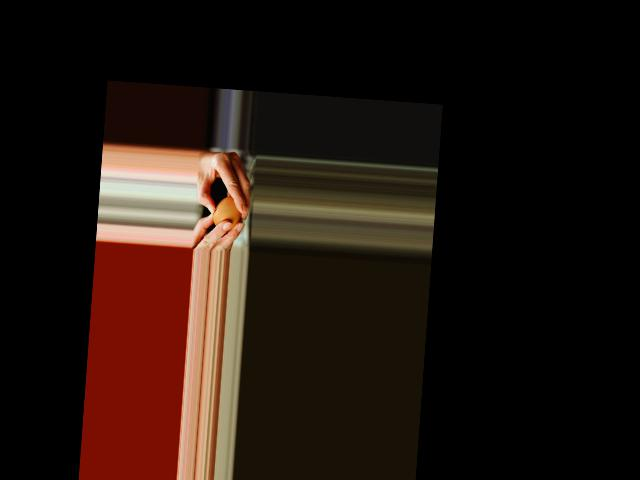egg: (212, 195, 243, 232)
